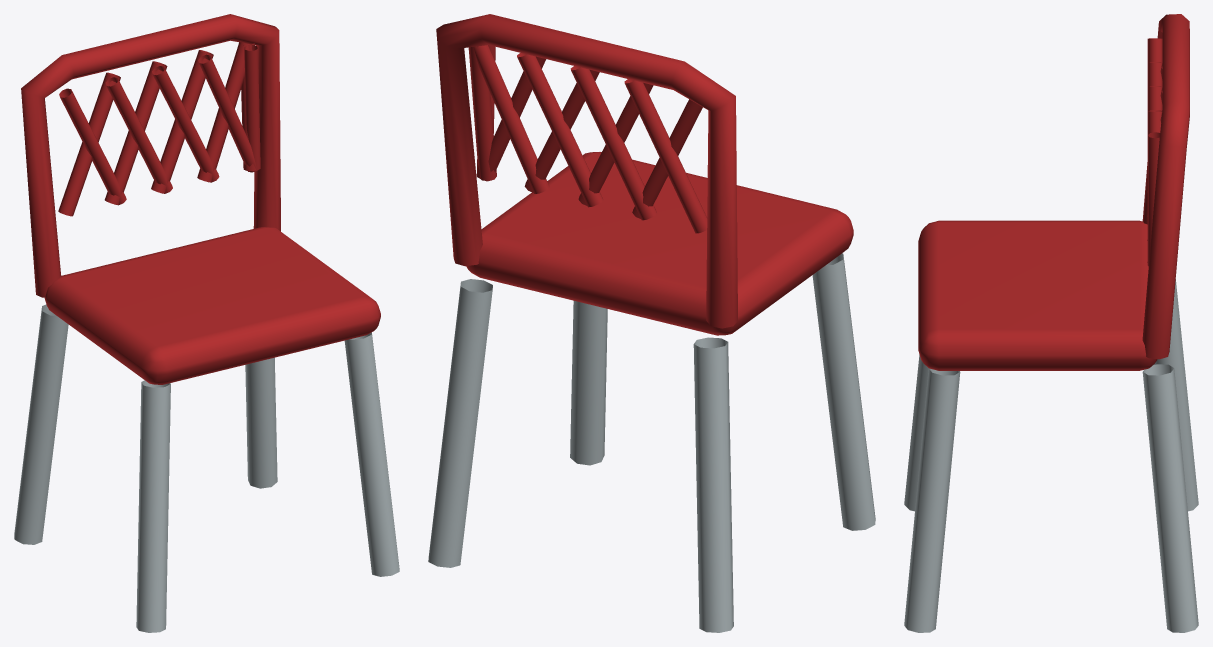
The model's file is prod-1773061941304-kyhnc.glb.
The picture shows the model from 3 angles, left to right: view 1: azimuth 30°, elevation 25°; view 2: azimuth 150°, elevation 25°; view 3: azimuth 270°, elevation 25°; orthographic projection. The views are drawn at different scales.
Parts seen in each view (by area): view 1: Upholstered seat.007, Chair leg.020; view 2: Upholstered seat.007, Chair leg.020; view 3: Upholstered seat.007, Chair leg.020.
Boxes of the visible parts, x1,y1,x2,y2 form: Upholstered seat.007: [21, 14, 380, 384]; Chair leg.020: [14, 304, 399, 632]; Upholstered seat.007: [436, 14, 853, 335]; Chair leg.020: [428, 253, 875, 632]; Upholstered seat.007: [918, 14, 1189, 370]; Chair leg.020: [904, 279, 1198, 632].
Size of the model in its own units: 0.48 by 0.84 by 0.44.
